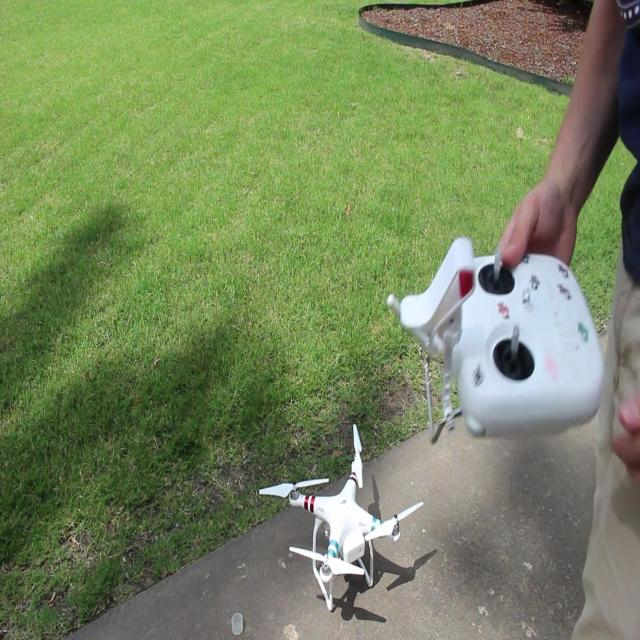Drone_FW: (256, 424, 426, 610)
